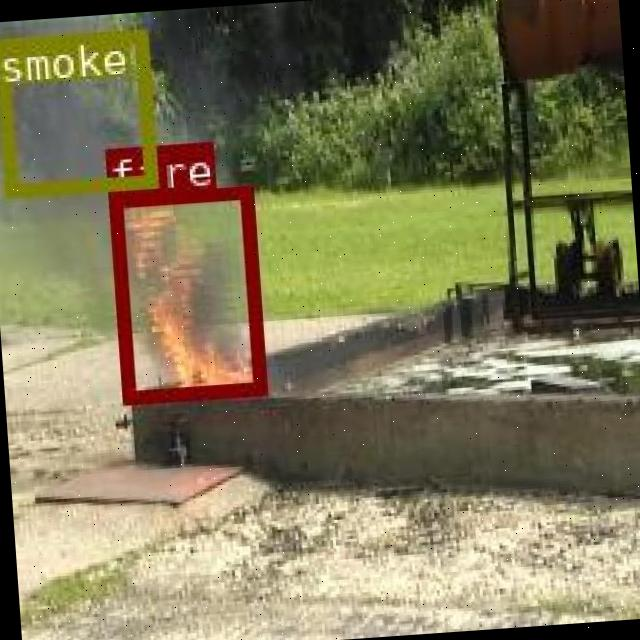fire: (105, 182, 264, 400)
smoke: (0, 28, 155, 194)
